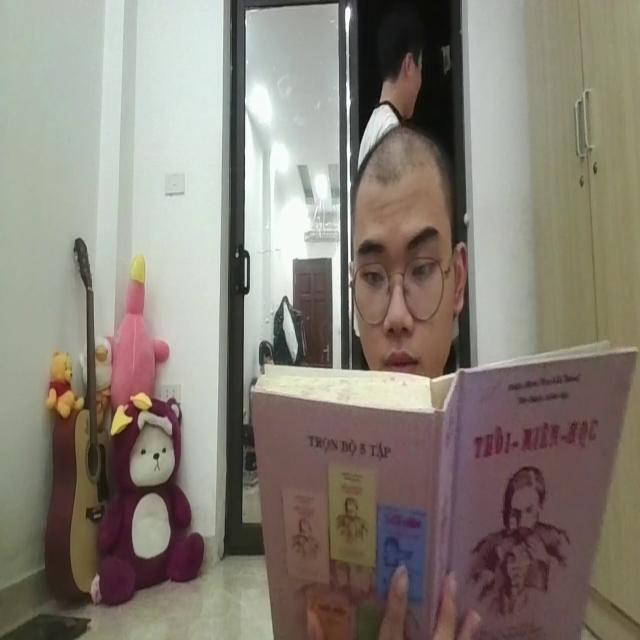book: (234, 312, 633, 640)
extra_person: (344, 26, 441, 146)
student: (336, 119, 476, 394)
